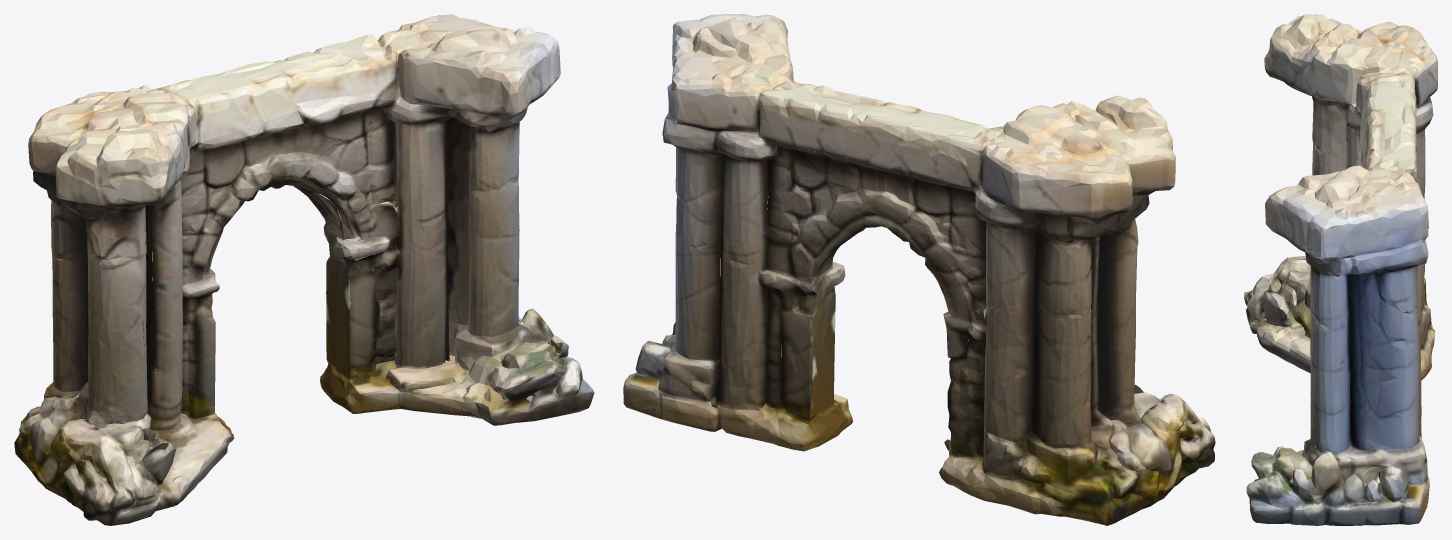
Rendered from wt-ruins-arch.glb.
3 views of the same model, side by side, from view 1: azimuth 30°, elevation 25°; view 2: azimuth 150°, elevation 25°; view 3: azimuth 270°, elevation 25° (orthographic). The views are drawn at different scales.
Visible parts, largest first — view 1: tmp2yv5gsix.ply; view 2: tmp2yv5gsix.ply; view 3: tmp2yv5gsix.ply.
Part boxes in pixels (x1,y1,x2,y2): tmp2yv5gsix.ply: [14, 14, 594, 525]; tmp2yv5gsix.ply: [623, 14, 1215, 525]; tmp2yv5gsix.ply: [1244, 14, 1437, 525].
Bounding box in the file's own units: 5 × 3.4 × 1.88.
Materials: 1 (1 with a texture image).
